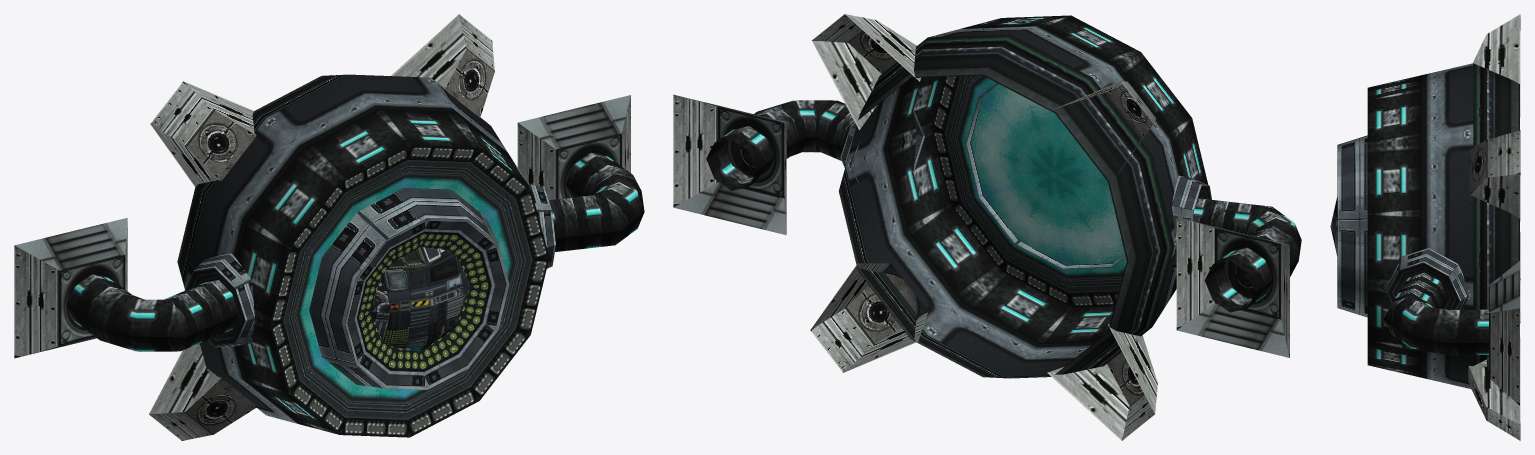
The model's file is Battery_wall_fixture_04.FBX.
The picture shows the model from 3 angles, left to right: view 1: azimuth 30°, elevation 25°; view 2: azimuth 150°, elevation 25°; view 3: azimuth 270°, elevation 25°; orthographic projection. The views are drawn at different scales.
Parts seen in each view (by area): view 1: Battery_wall_fixture_04, Liquid; view 2: Battery_wall_fixture_04; view 3: Battery_wall_fixture_04, Liquid.
Boxes of the visible parts, x1,y1,x2,y2 form: Battery_wall_fixture_04: (14,14,644,440); Liquid: (370,246,470,351); Battery_wall_fixture_04: (673,14,1301,440); Battery_wall_fixture_04: (1337,14,1520,440); Liquid: (1330,197,1337,255).
Size of the model in its own units: 569 by 317 by 176.
